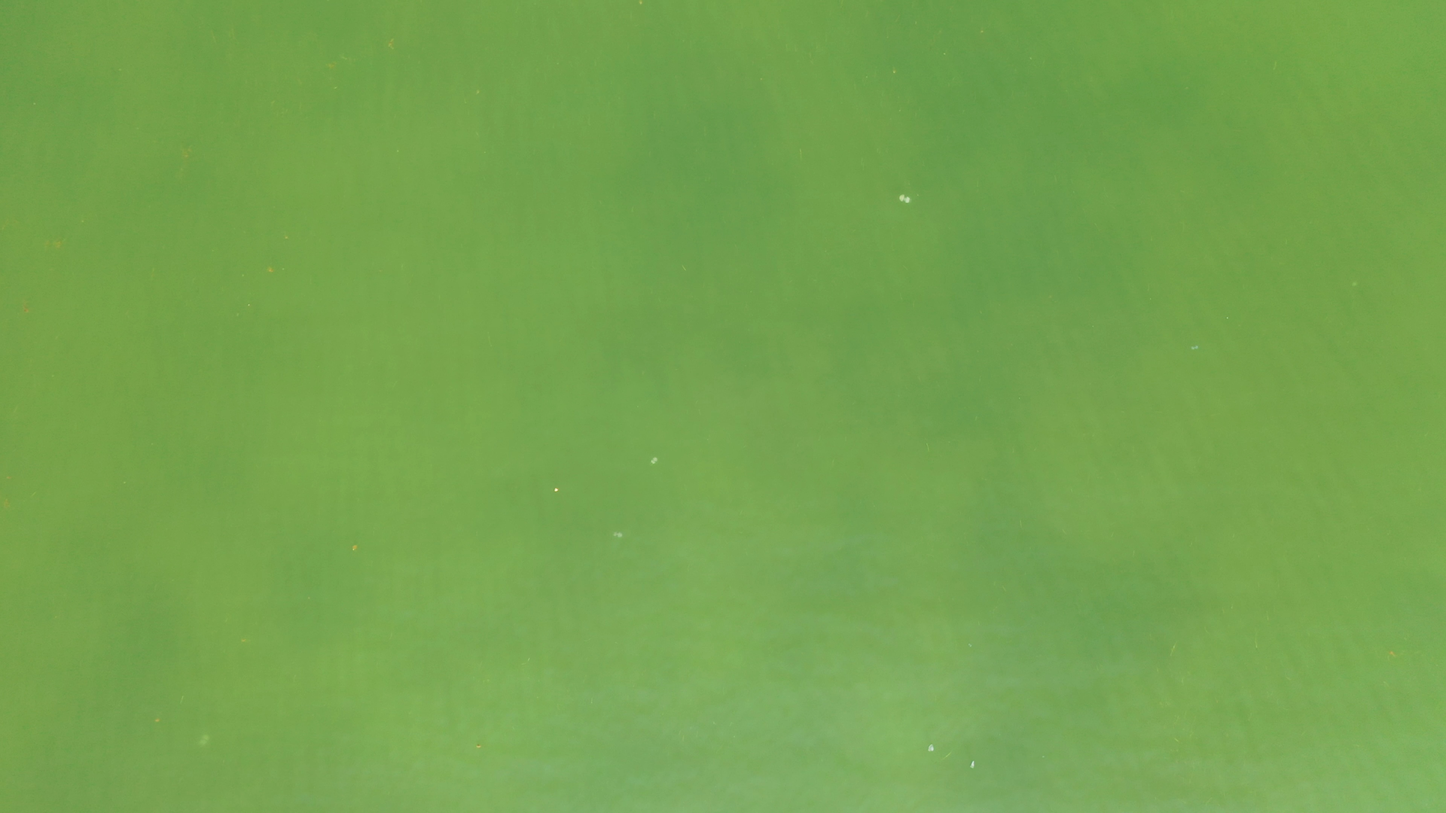meduse: (898, 194, 911, 204), (200, 735, 208, 745), (613, 530, 622, 538), (651, 456, 658, 465), (1191, 344, 1199, 351)
